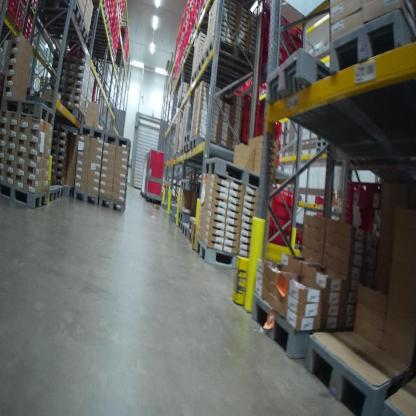pallet: (264, 48, 385, 169), (321, 4, 413, 121), (303, 322, 412, 414), (253, 290, 334, 369), (203, 37, 256, 79), (201, 154, 266, 188), (194, 235, 249, 273), (1, 95, 54, 126), (198, 56, 251, 85), (382, 367, 414, 414), (1, 181, 47, 209), (46, 18, 89, 45), (39, 2, 83, 28), (80, 122, 107, 143), (71, 187, 99, 207), (58, 103, 84, 123), (104, 133, 132, 151), (98, 195, 128, 211), (189, 134, 212, 153), (183, 140, 205, 159), (90, 32, 114, 47), (87, 46, 114, 58), (190, 67, 205, 87), (90, 11, 109, 26), (179, 178, 198, 192), (91, 23, 110, 37), (48, 184, 58, 207), (178, 209, 191, 226), (187, 216, 198, 234), (92, 1, 107, 13), (62, 182, 73, 198), (182, 128, 192, 143), (57, 182, 67, 197), (180, 224, 189, 240), (188, 228, 196, 243), (168, 213, 178, 224), (169, 203, 178, 214), (105, 58, 117, 66), (178, 221, 185, 232)
